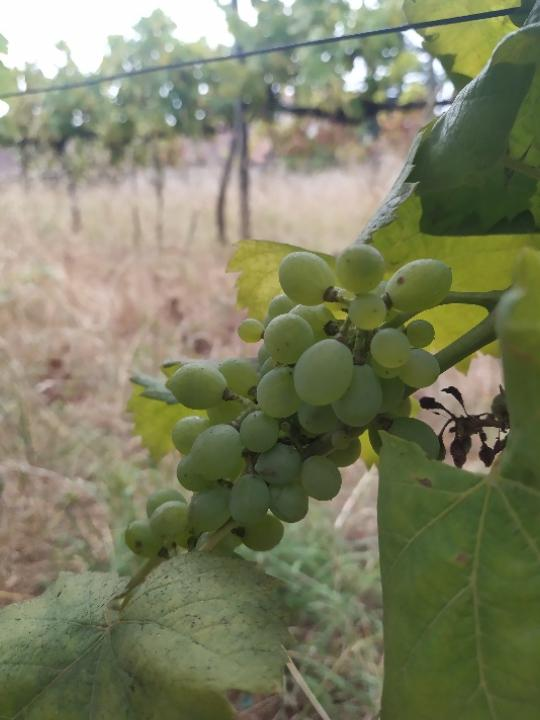grape: (122, 241, 457, 562)
